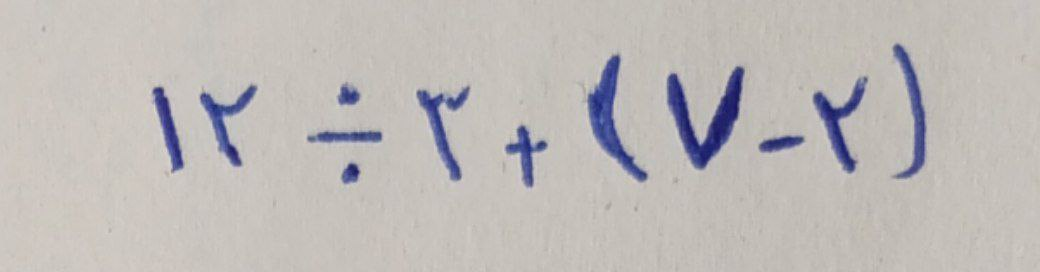character: (297, 73, 388, 191), (582, 48, 654, 186), (664, 60, 749, 175), (409, 76, 478, 187), (808, 68, 873, 179), (884, 35, 931, 185), (197, 79, 261, 177), (141, 79, 193, 182), (496, 119, 555, 191), (758, 122, 806, 166)
